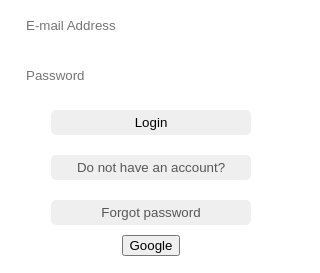
it: back to login from reg
Click the button with test id "toReg-id" at (151, 168), box [51,155,251,180]
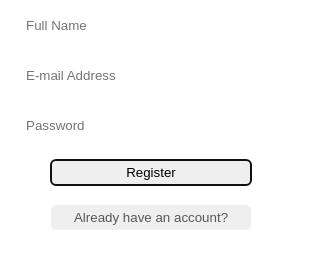
Expected: the element with test id "reg" is shown
Click the button with test id "toLogin-id" at (151, 218), box [51,205,251,230]
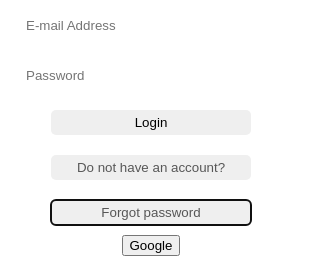
Expected: the element with test id "login" is shown
